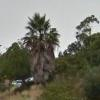Palm tree: (23, 7, 65, 80)
